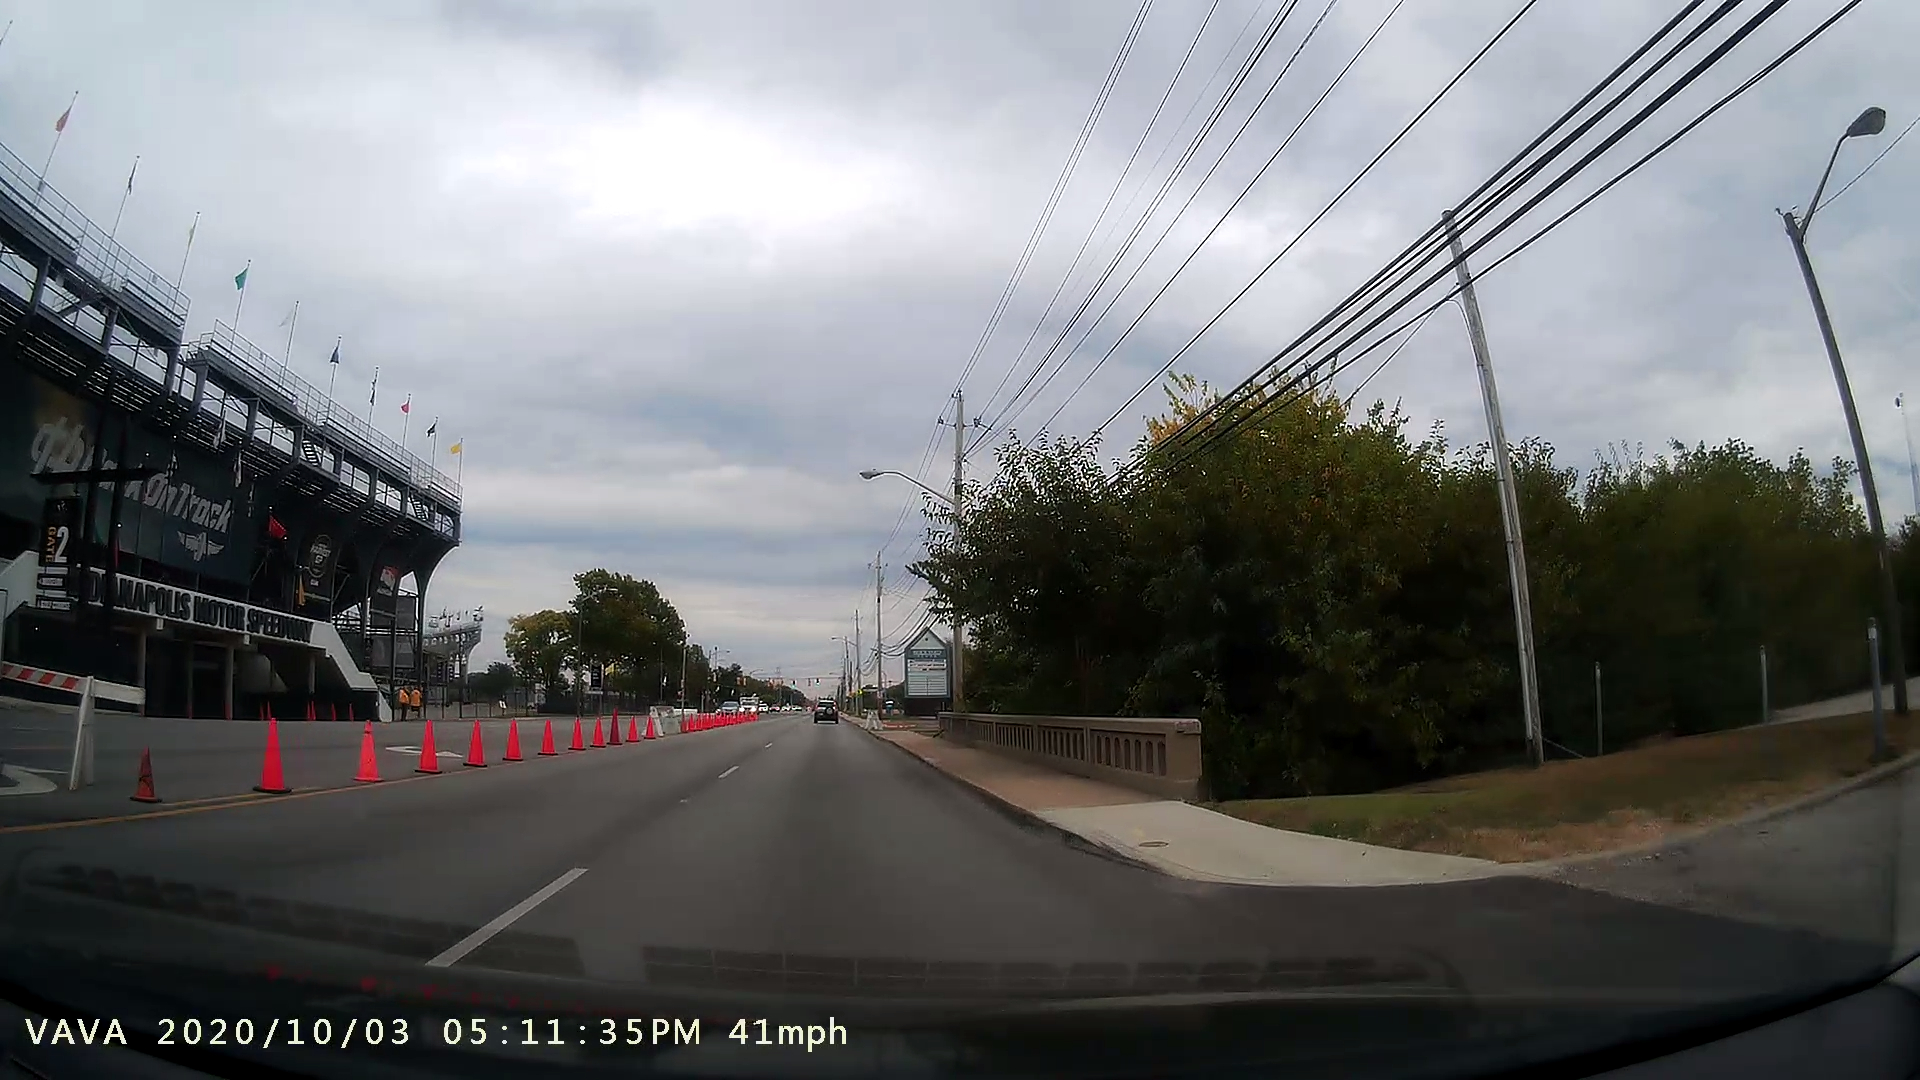const_cone: (243, 711, 305, 804), (343, 705, 397, 795), (411, 712, 448, 789), (460, 704, 491, 775), (498, 715, 527, 760)
